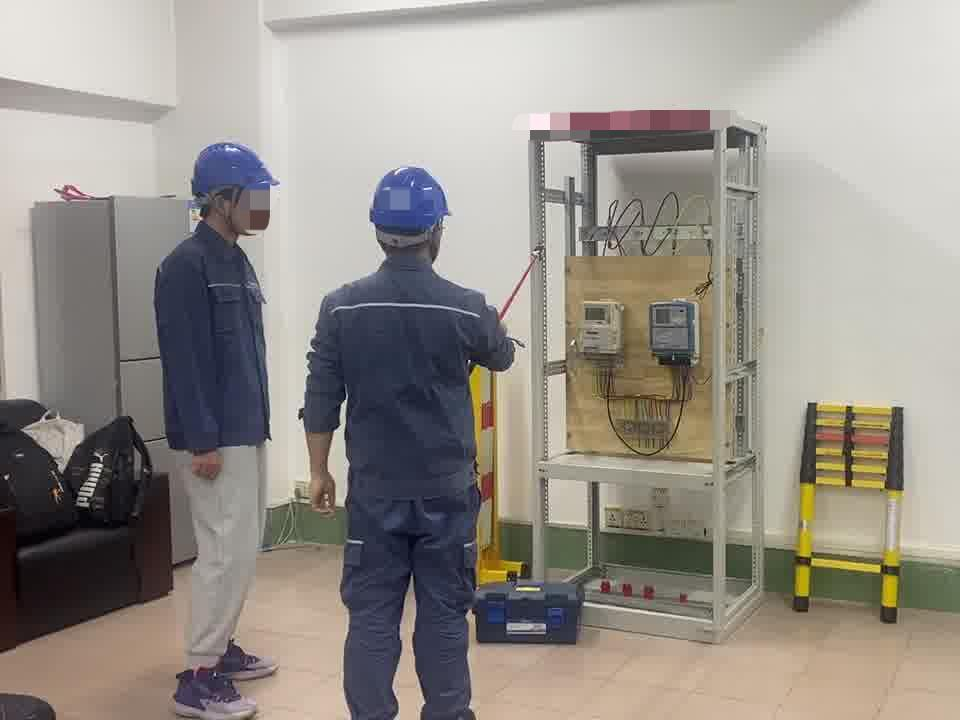halt: (192, 143, 282, 242), (371, 166, 454, 263)
inear: (209, 187, 245, 229)
